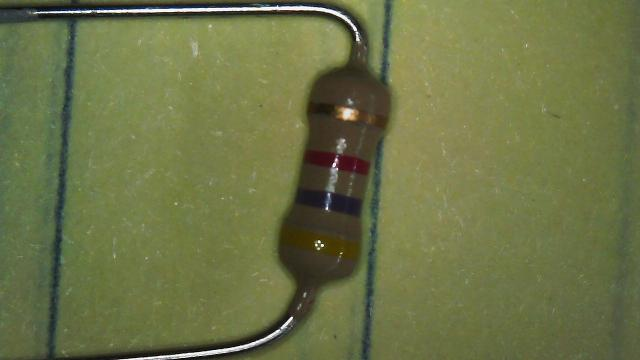gold: (308, 102, 388, 127)
red: (304, 150, 370, 174)
resistor: (255, 44, 418, 310)
violet: (295, 188, 362, 216)
yellow: (280, 226, 360, 259)
